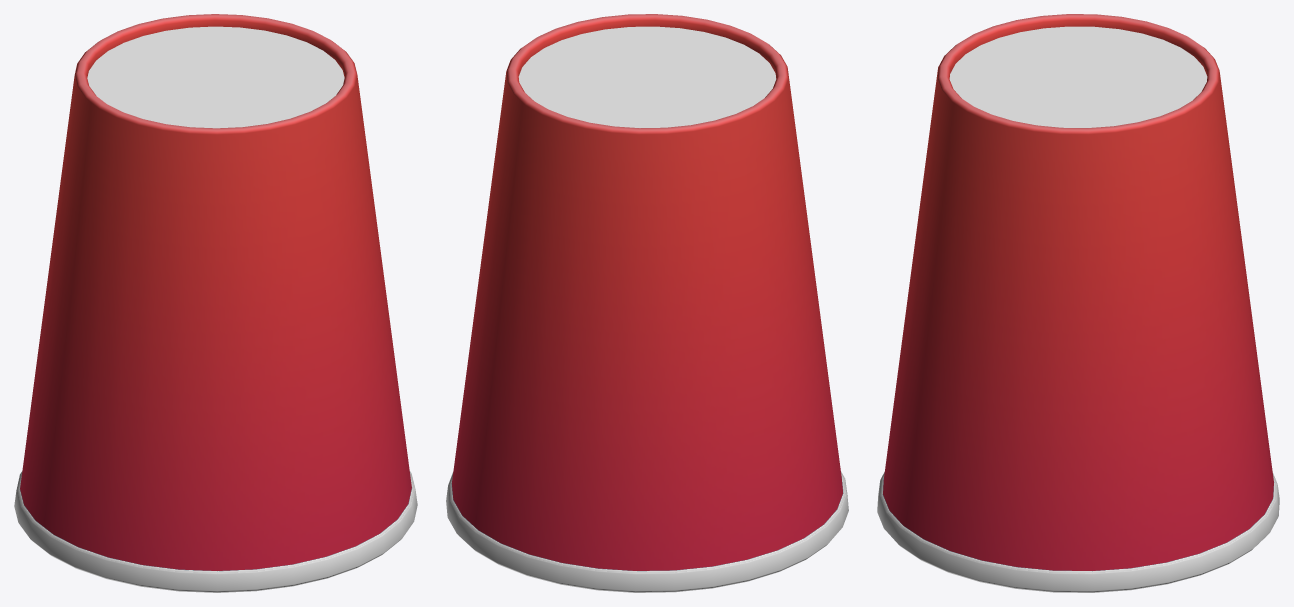
File: Paper_Glass_01.fbx
The picture shows the model from 3 angles, left to right: view 1: azimuth 30°, elevation 25°; view 2: azimuth 150°, elevation 25°; view 3: azimuth 270°, elevation 25°; orthographic projection.
Parts seen in each view (by area): view 1: Paper_Glass_01; view 2: Paper_Glass_01; view 3: Paper_Glass_01.
Part boxes in pixels (x1,y1,x2,y2): Paper_Glass_01: [14, 14, 417, 592]; Paper_Glass_01: [446, 14, 848, 592]; Paper_Glass_01: [877, 14, 1279, 592].
Bounding box in the file's own units: 10.07 × 12.07 × 10.07.
